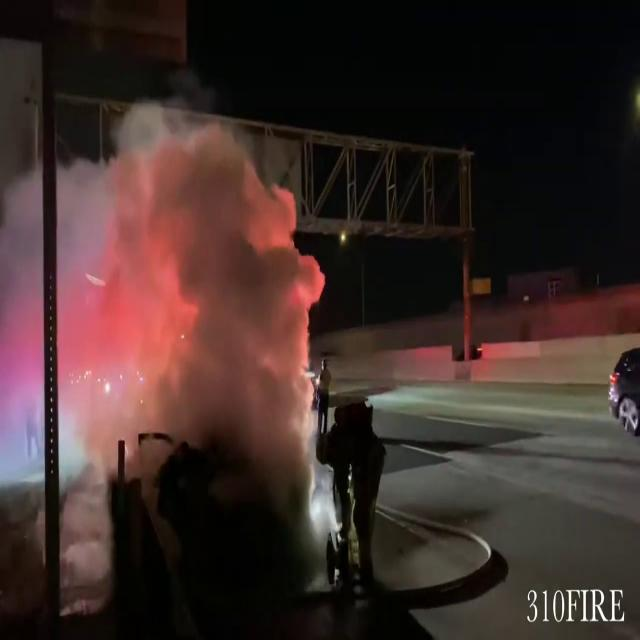Smoke: (53, 92, 320, 500)
